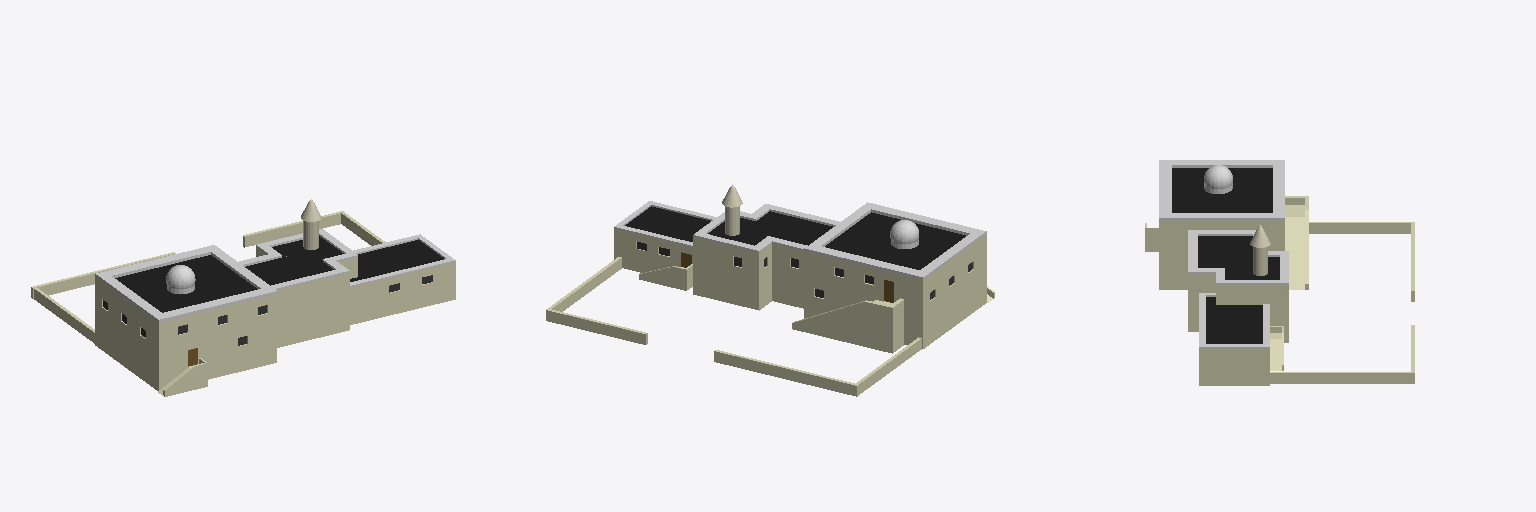
The model's file is house1.obj.
3 renders of one model, left to right at view 1: azimuth 30°, elevation 25°; view 2: azimuth 150°, elevation 25°; view 3: azimuth 270°, elevation 25°, orthographic.
Parts seen in each view (by area): view 1: unnamed_object1; view 2: unnamed_object1; view 3: unnamed_object1.
Part boxes in pixels (x1,y1,x2,y2): unnamed_object1: (31,199,455,396); unnamed_object1: (546,184,994,396); unnamed_object1: (1145,160,1414,385).
Size of the model in its own units: 28.59 by 9.16 by 21.07.